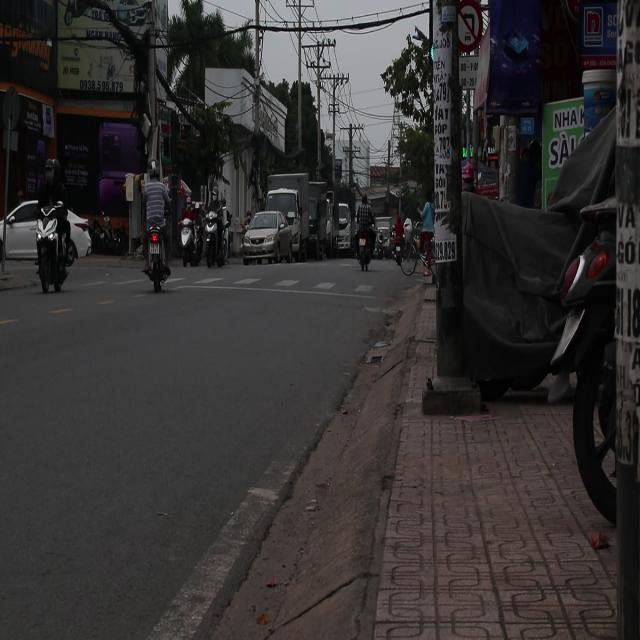car: (0, 199, 90, 266), (240, 211, 294, 263)
motorbike: (142, 222, 170, 304), (179, 199, 202, 269)
truck: (266, 176, 328, 260), (324, 188, 356, 256)
